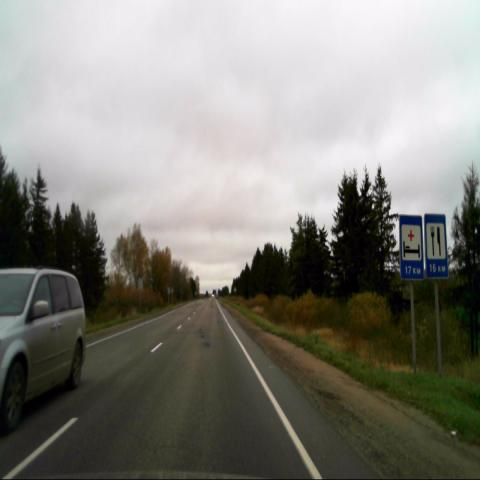7_2: (400, 215, 422, 280)
7_7: (424, 213, 448, 279)
